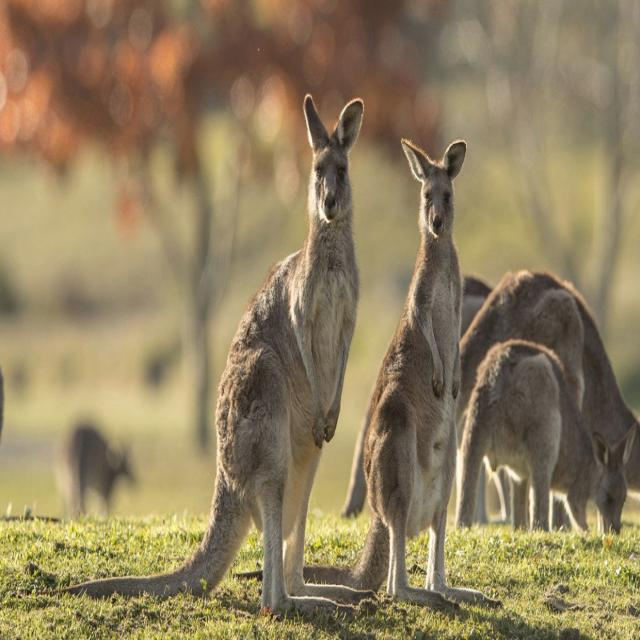kangaroo: (74, 94, 373, 613), (303, 139, 484, 603), (455, 339, 639, 532)
